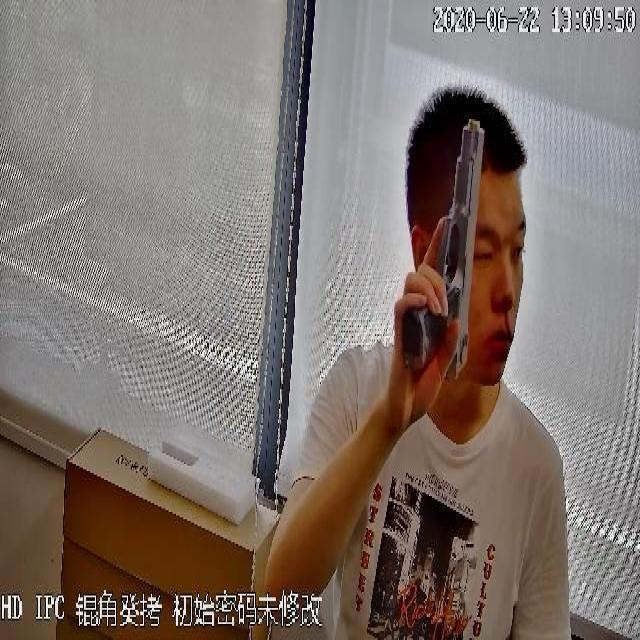pistol: (404, 119, 484, 379)
